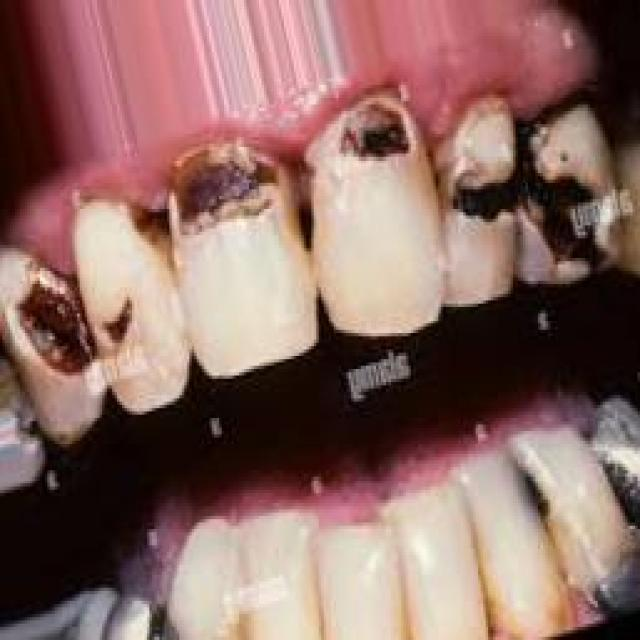caries: (518, 110, 628, 276), (161, 138, 291, 252), (432, 87, 520, 248), (323, 76, 418, 197), (2, 265, 88, 387), (120, 182, 191, 285), (504, 453, 568, 536), (94, 280, 150, 366)
